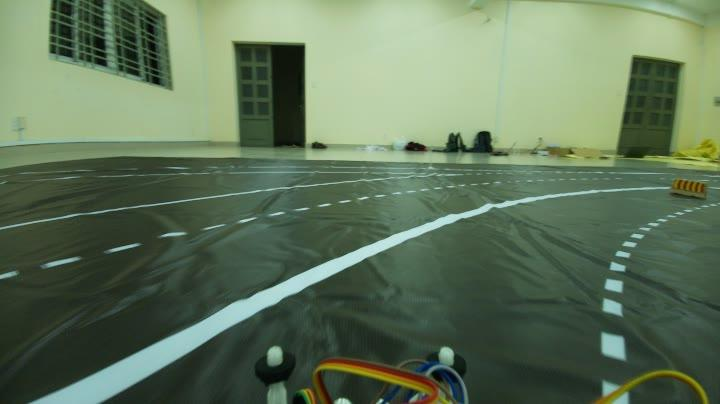roadblock: (662, 172, 706, 212)
